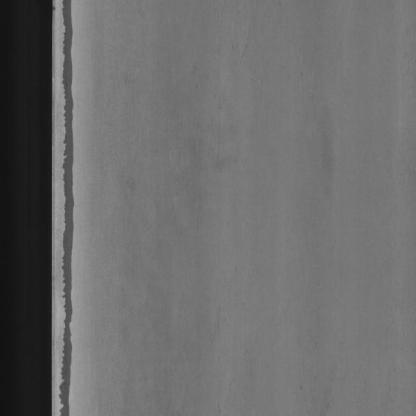oil_spot: (58, 1, 92, 416)
